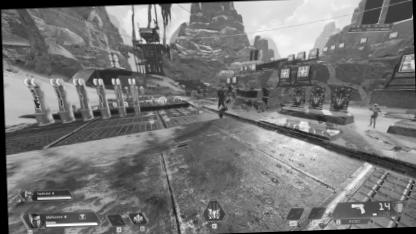Target: (214, 82, 236, 119), (368, 101, 380, 128)
